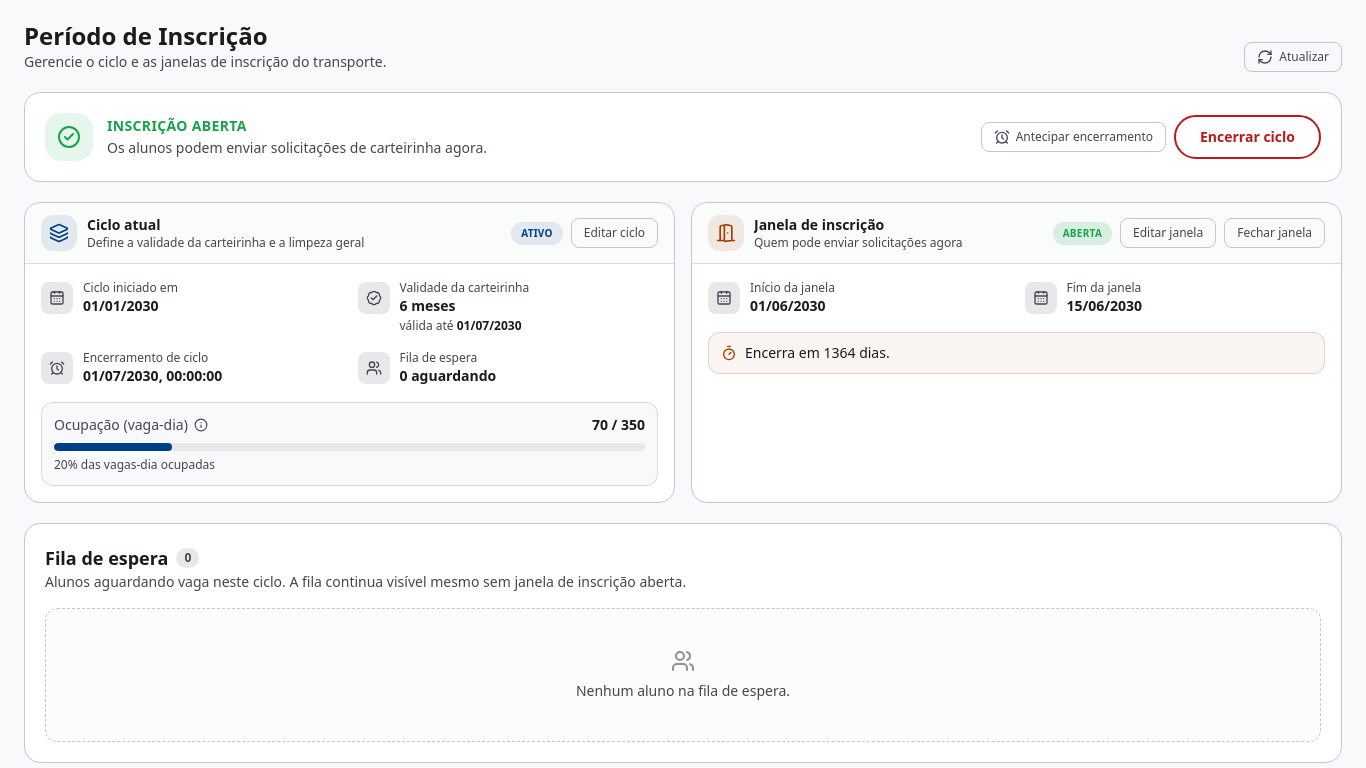
Scenario: EnrollmentPeriodPage — edição separada de ciclo e janela › the window modal shows how the window was opened, read-only
What coordinates should you click on to do the following:
click the button "Editar janela"
I would click on:
 (1168, 233)
Its box is [1120, 218, 1216, 248].
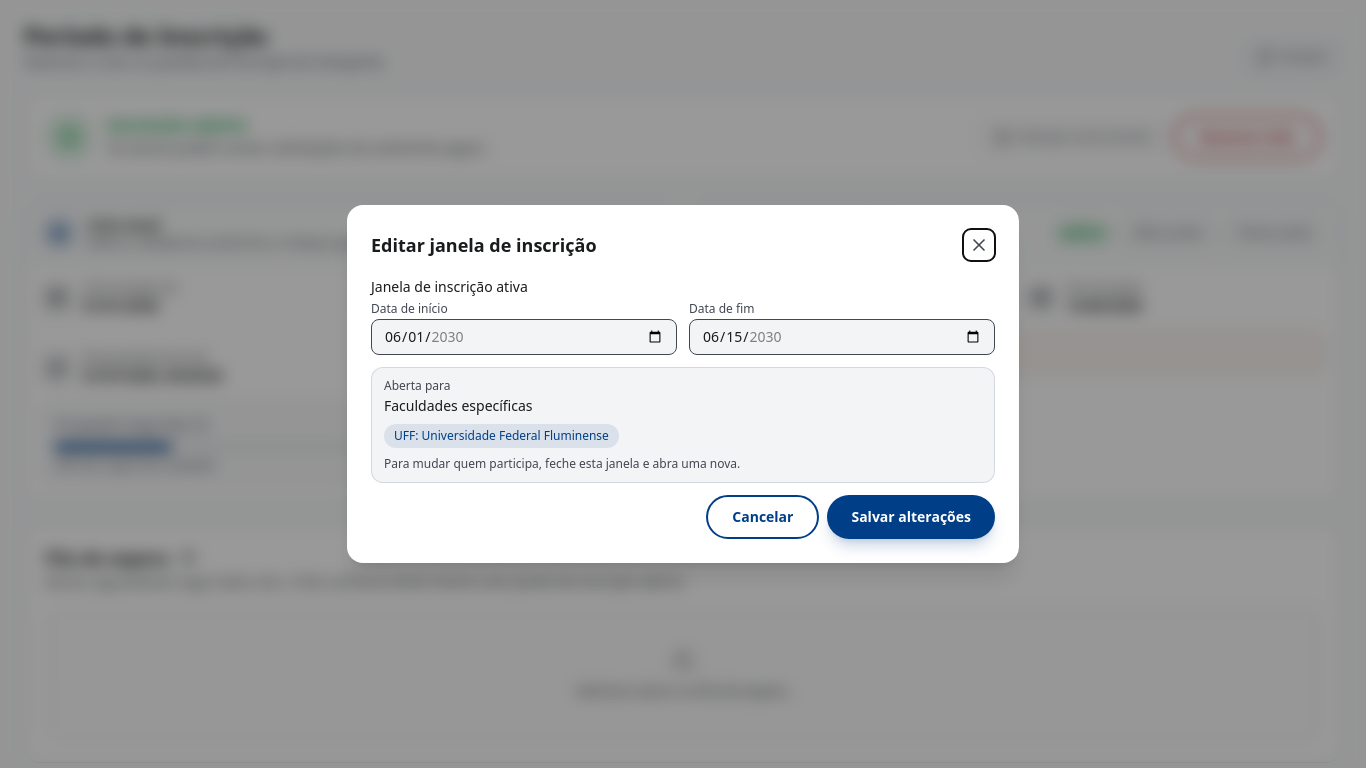
Check: the text "Aberta para" is shown, box [384, 377, 450, 394]
Check: the text "Faculdades específicas" is shown, box [384, 396, 533, 415]
Check: the text "UFF: Universidade Federal Fluminense" is shown, box [384, 424, 619, 448]
